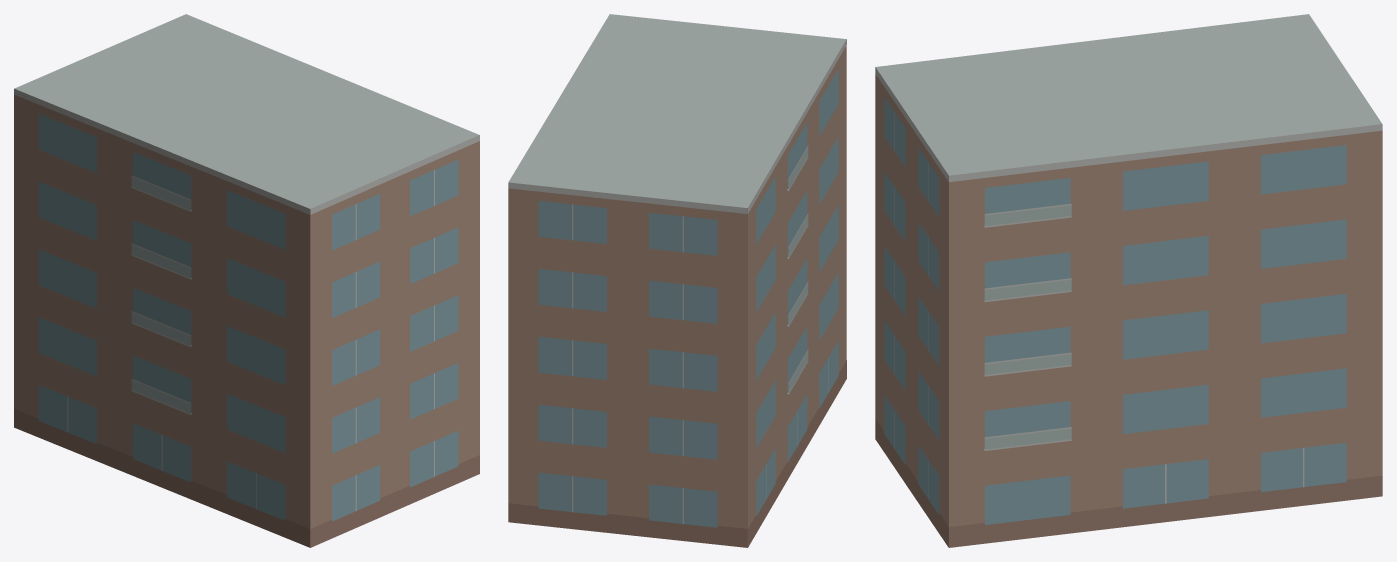
File: survey-upis-32699076.glb
The picture shows the model from 3 angles, left to right: view 1: azimuth 30°, elevation 25°; view 2: azimuth 150°, elevation 25°; view 3: azimuth 270°, elevation 25°; orthographic projection. The views are drawn at different scales.
Parts seen in each view (by area): view 1: survey-upis-32699076.tmp; view 2: survey-upis-32699076.tmp; view 3: survey-upis-32699076.tmp.
Boxes of the visible parts, <box> form: survey-upis-32699076.tmp: <box>14,14,479,547</box>; survey-upis-32699076.tmp: <box>508,14,846,547</box>; survey-upis-32699076.tmp: <box>875,14,1382,547</box>.
Bounding box in the file's own units: 13.06 × 14 × 17.3.
